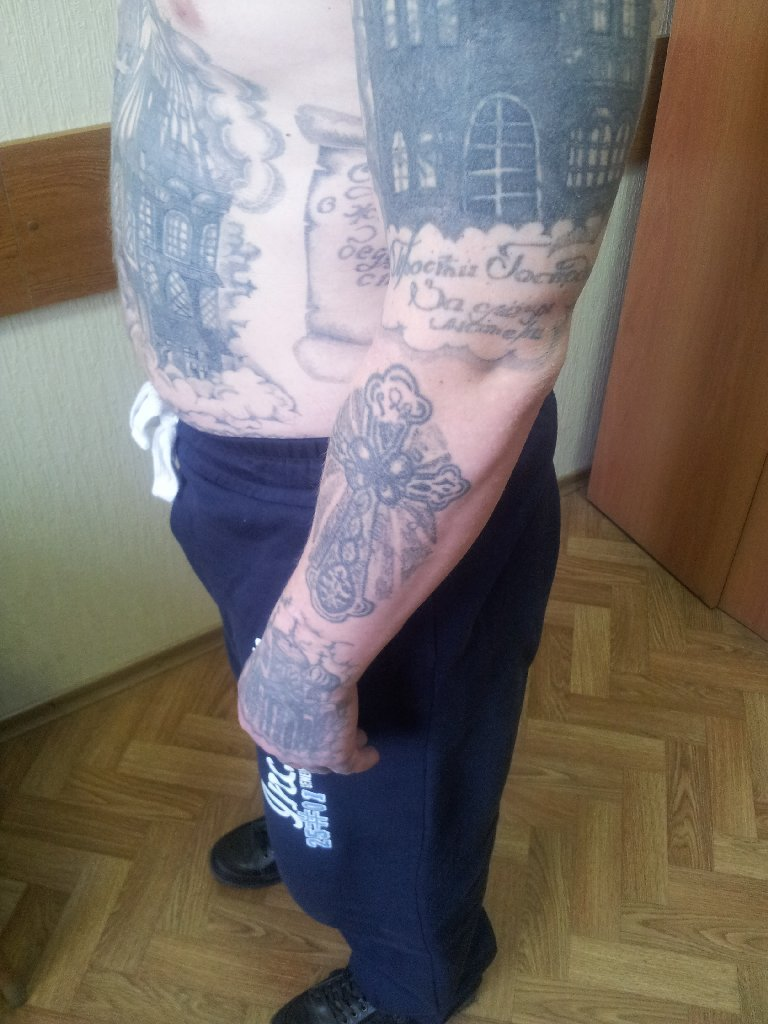tatu9_krest: (294, 360, 479, 640)
